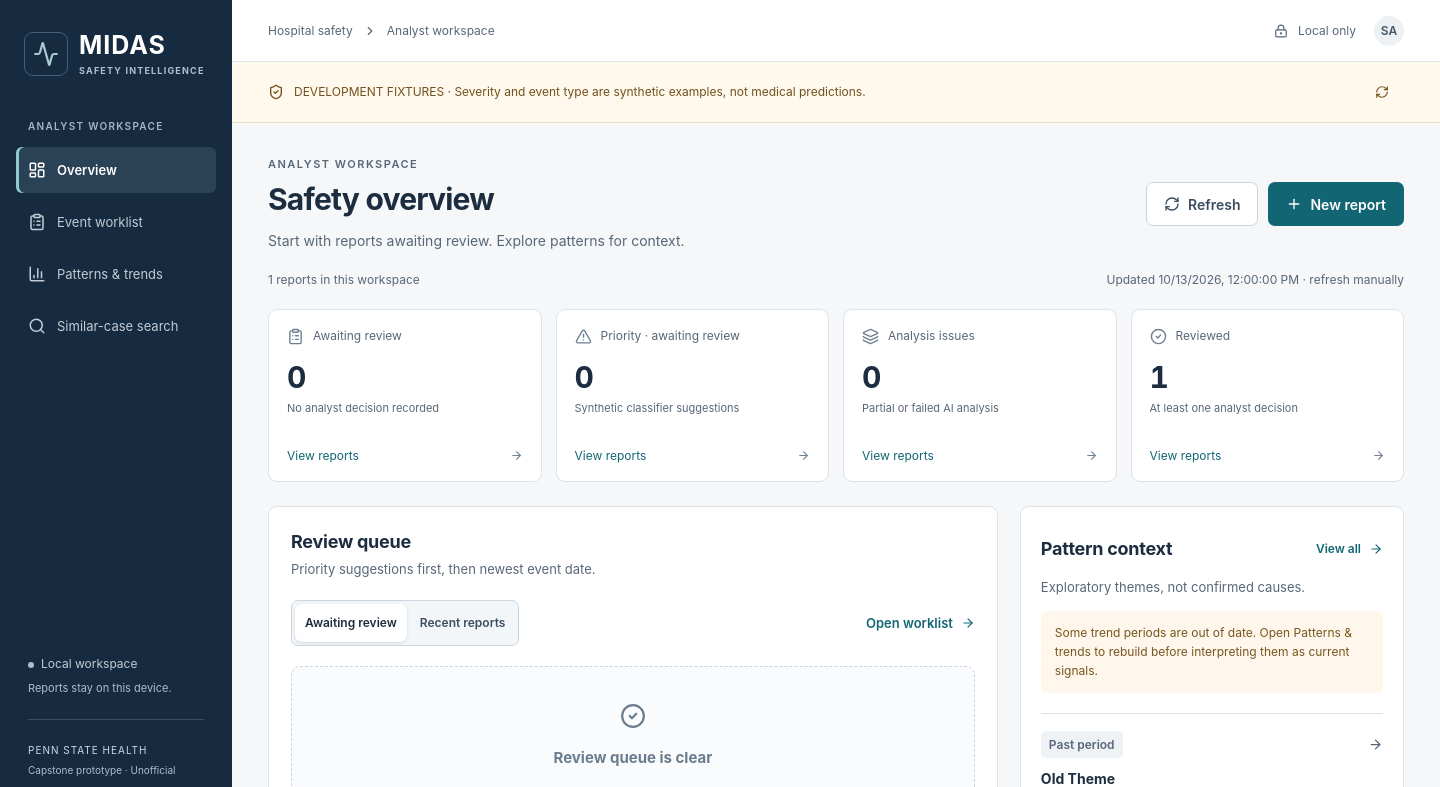
Scenario: analyst UX regression checks › separates a completed review queue from recent reports and stale trends
Check: the heading "Review queue is clear" is shown, box [554,748,712,767]
Check: the text "Past period" is shown, box [1041,731,1123,758]
What coordinates should you click on to do the following:
click the button "Recent reports"
I would click on:
 (463, 623)
Its box is [410,604,515,642].
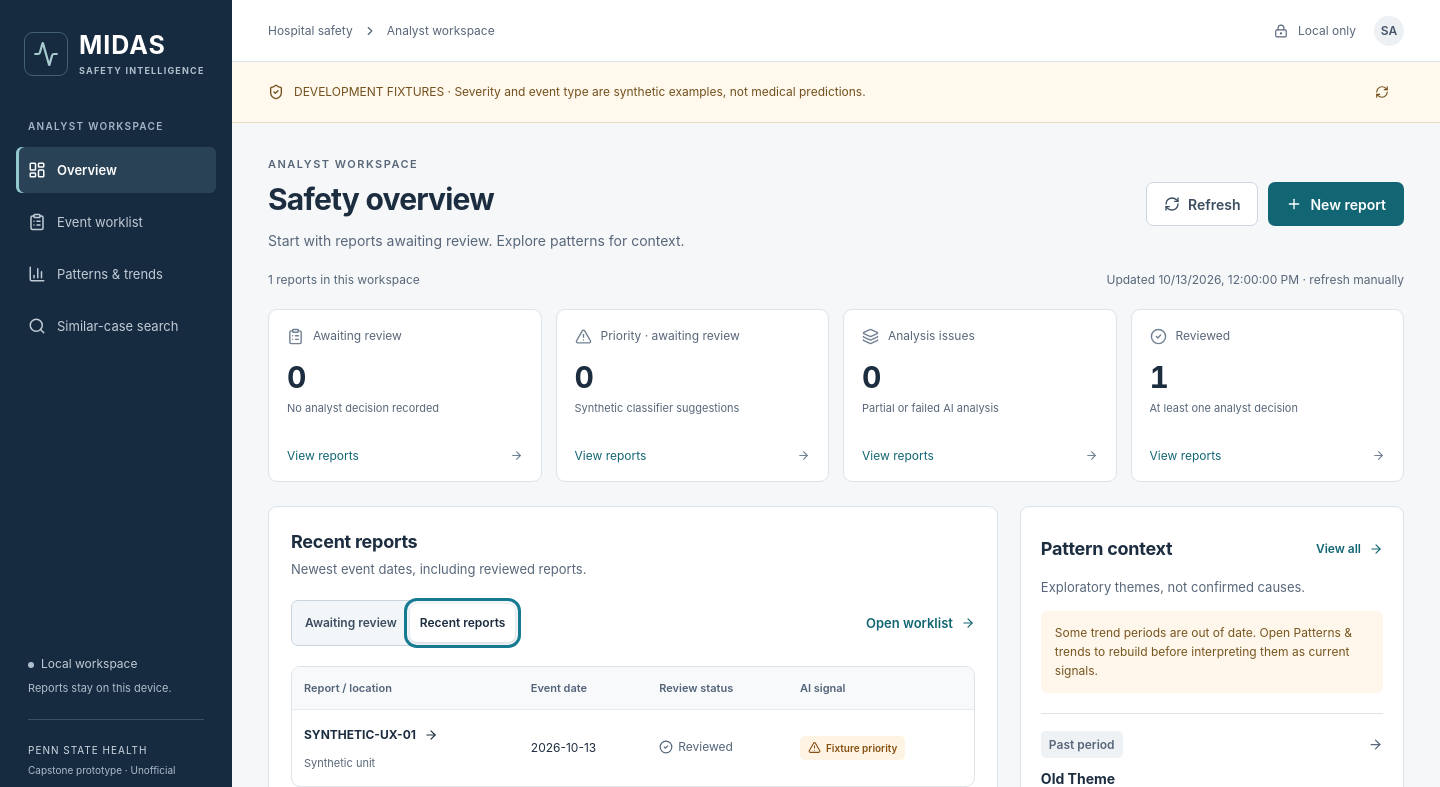
Check: the link "SYNTHETIC-UX-01" is shown, box [304,724,438,745]
Check: the heading "Review queue is clear" is gone
